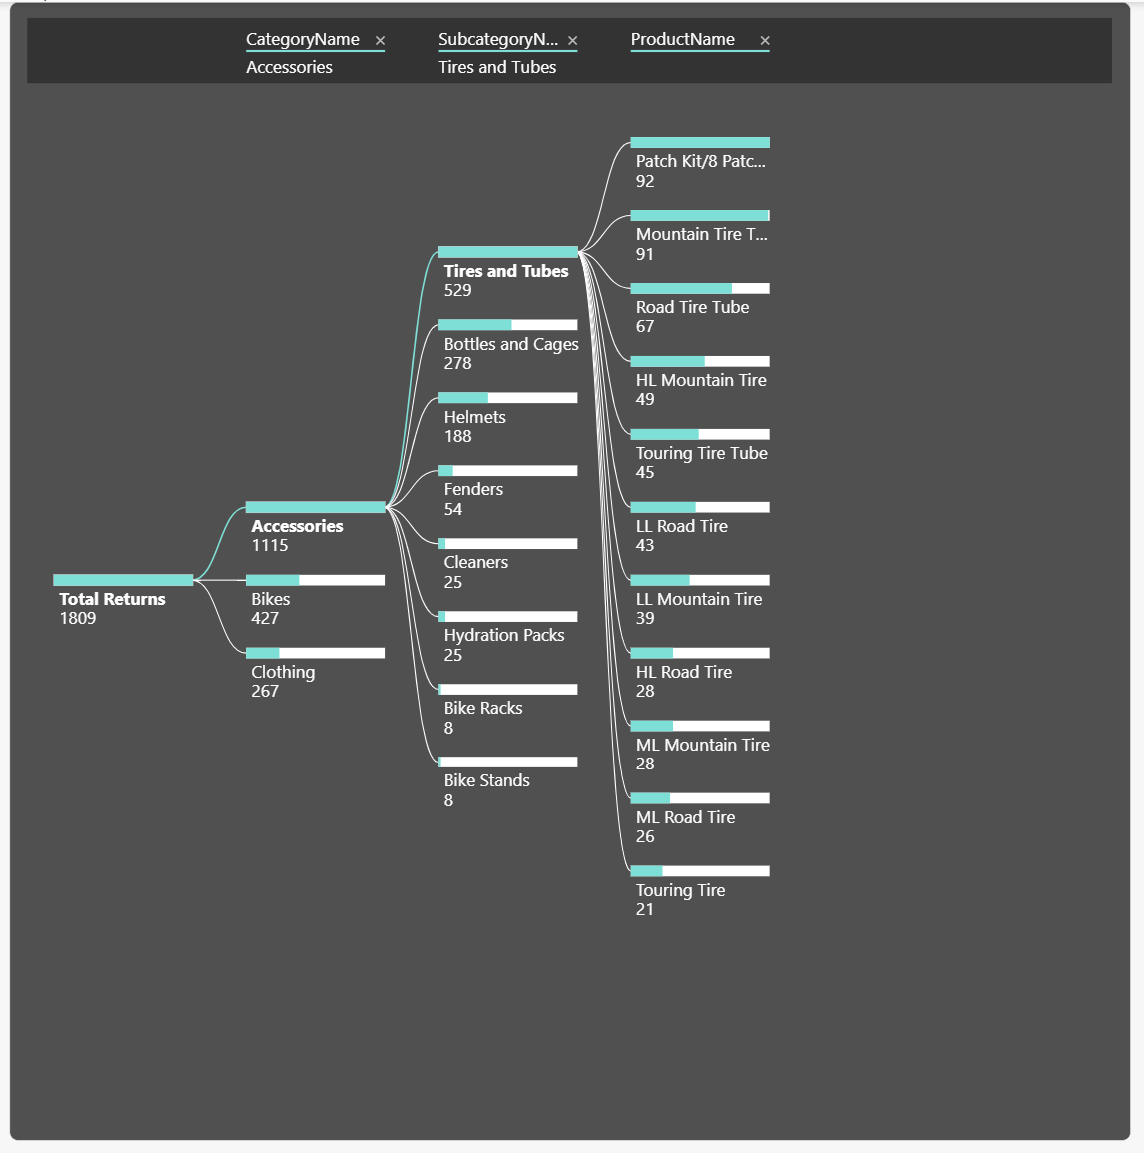

Layout of this report page (visuals, bound fields, positions):
{"tool":"powerbi","page":{"name":"Decomposition Tree","canvas":[1920,1080],"ordinal":5},"visuals":[{"type":"decompositionTreeVisual","fields":{"Analyze":["Table Measure.Total Returns"],"ExplainBy":["Product Categories Lookup.CategoryName","Product Subcategories Lookup.SubcategoryName","Product Lookup.ProductName"]},"box":[9.6,0,1049.5,1066.8],"z":0}]}

Visuals, with their boxes on the page's 1920x1080 design canvas (x1, y1, x2, y2). These are canvas units, not pixel positions in the 1144x1153 screenshot, which may show the page scaled, cropped or inside an application window:
decompositionTreeVisual - Table Measure.Total Returns x Product Categories Lookup.CategoryName: 10:0:1059:1067
